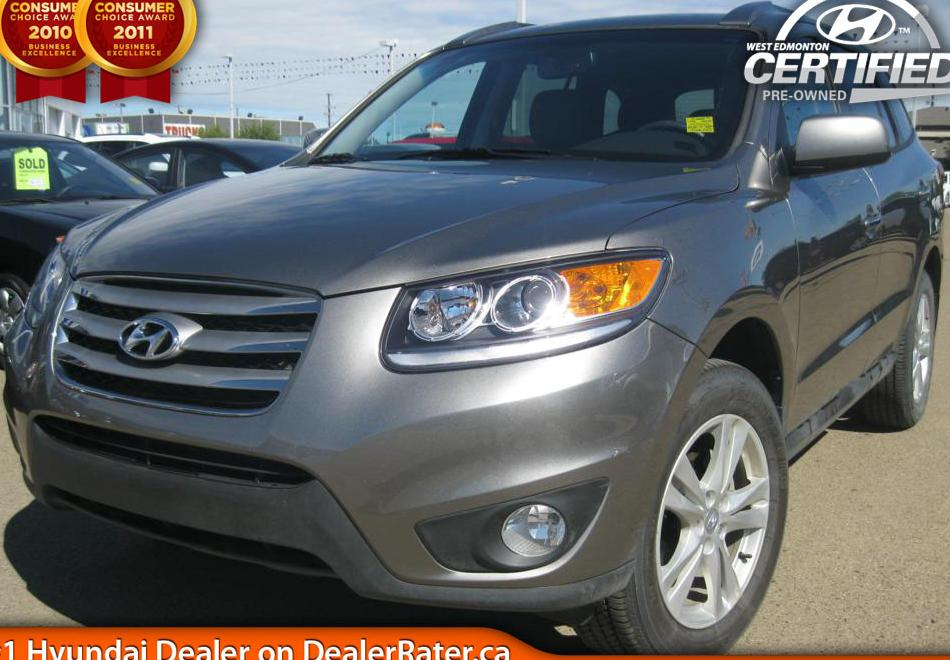front_view: (15, 245, 687, 597)
headlight: (364, 229, 691, 354)
